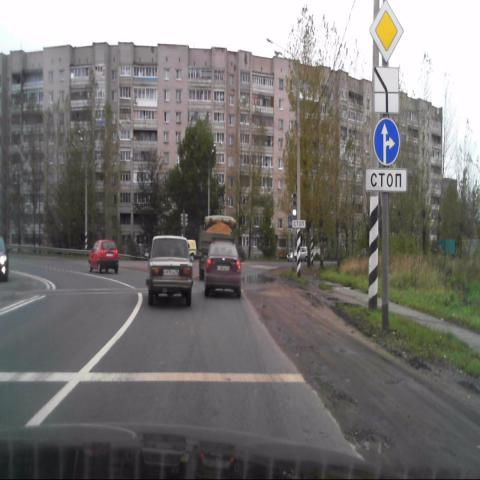4_1_4: (372, 118, 399, 168)
